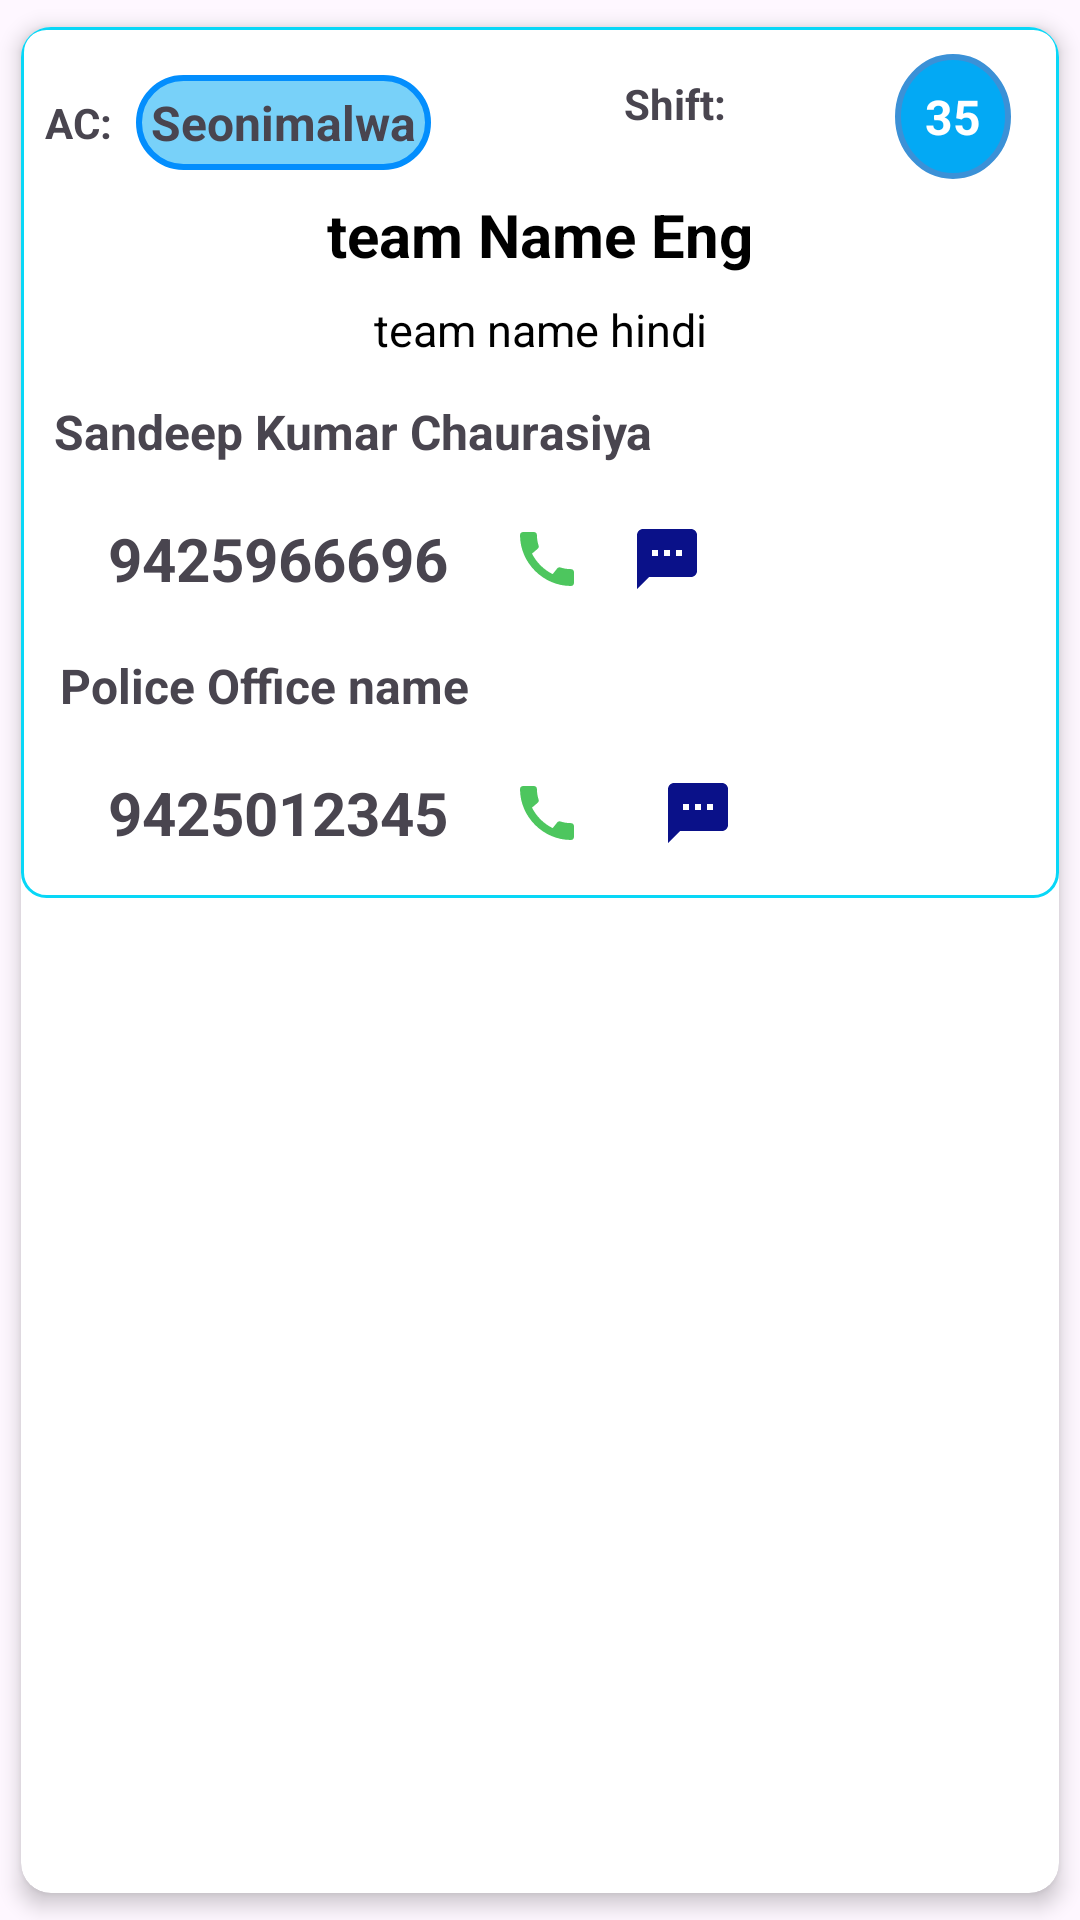

Screen size 1080 × 1920. Icon name, then its center in pixels as (x,y):
call: (547,559), (547,813)
